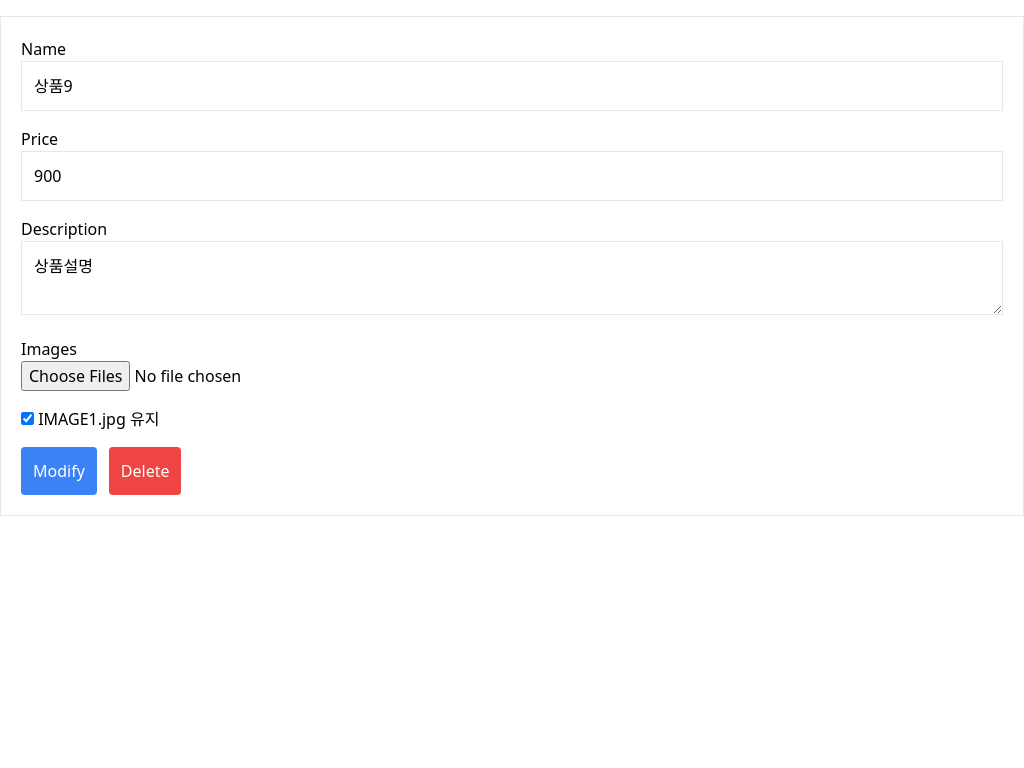
Test: 상품 수정 Mutation이 기존 이미지 이름과 변경 값을 유지한다
Replace the text in the field labelled "Name" with "수정상품". click: [512, 86]
box: [21, 61, 1003, 111]
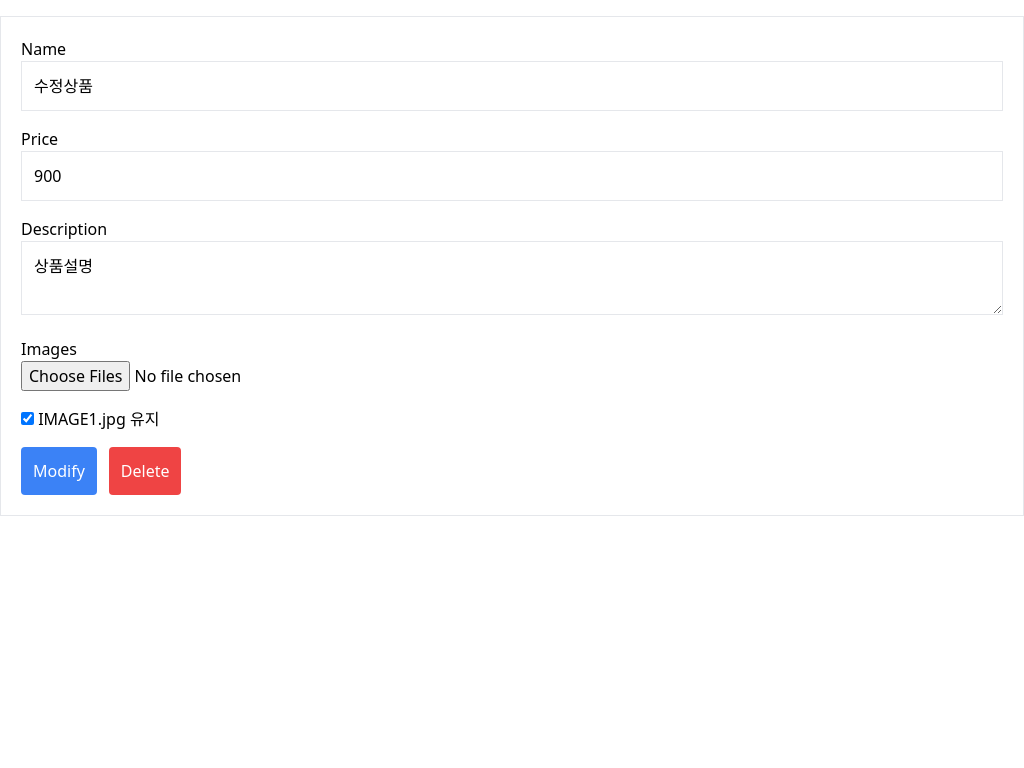
Submit the form "Modify", box [21, 37, 1003, 495]
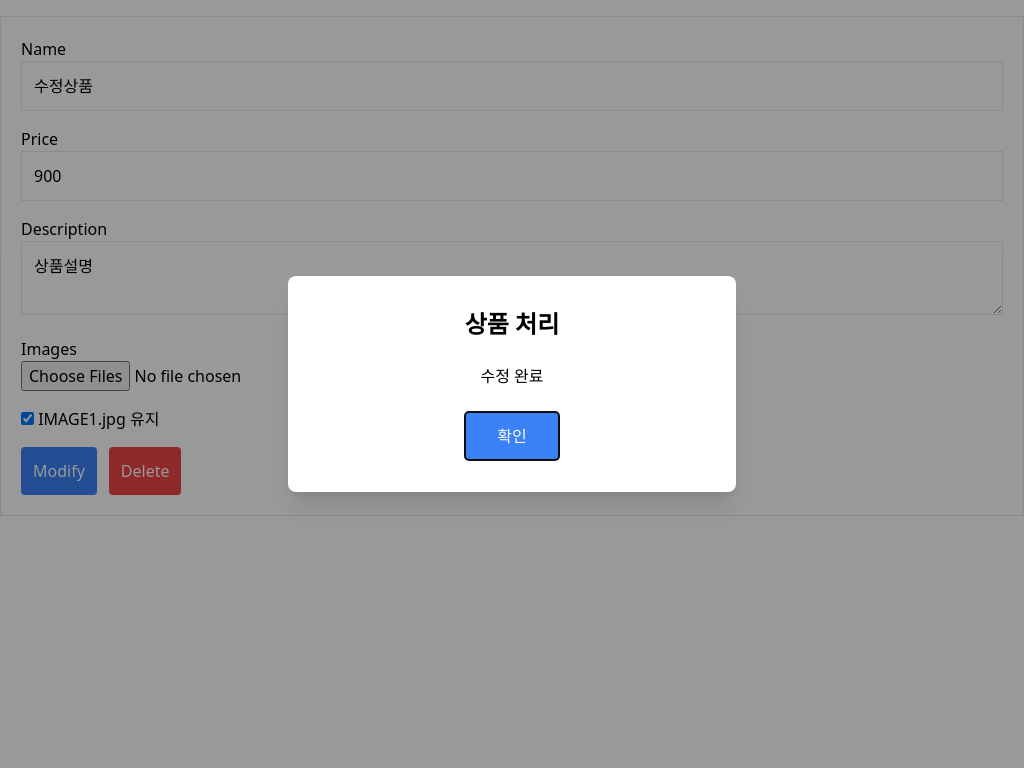
Expected: the text "수정 완료" is shown, [480, 365, 544, 387]
